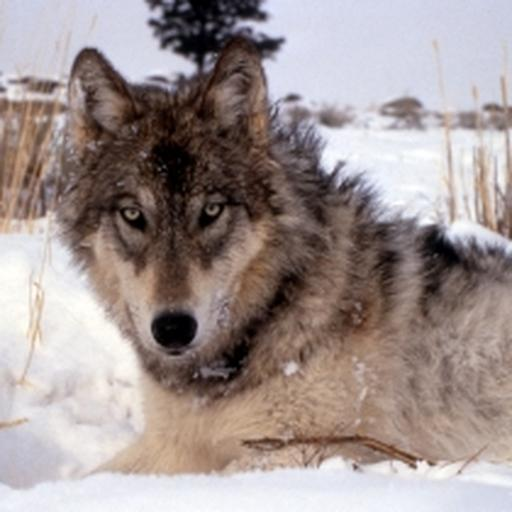Wolf: (58, 29, 512, 495)
